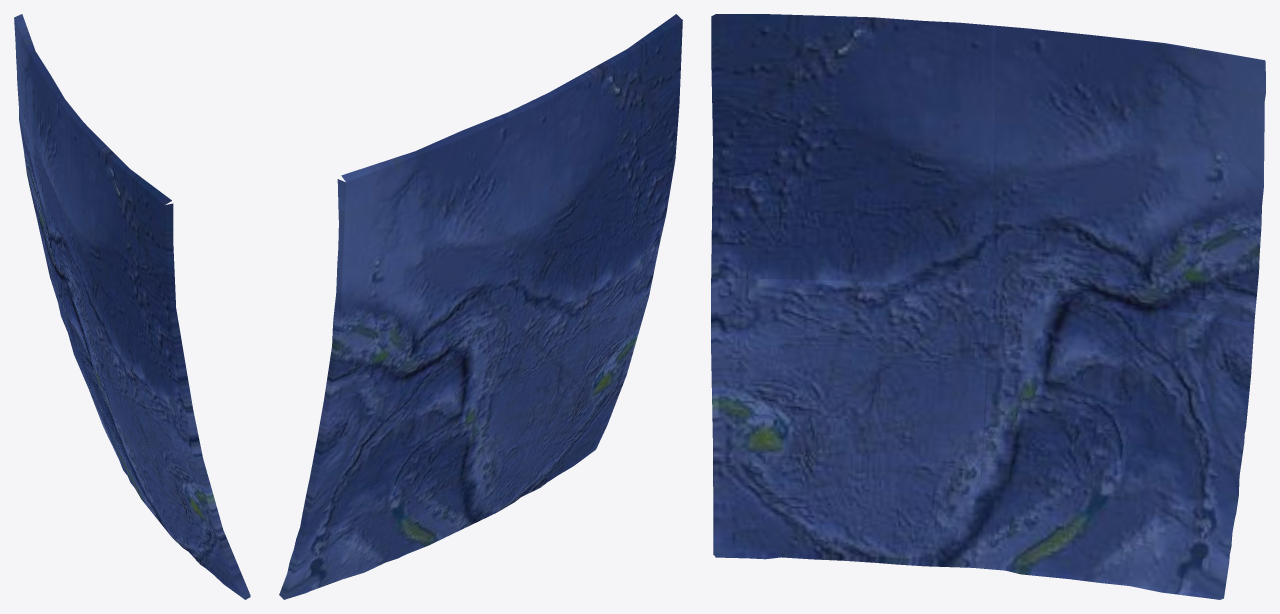
3 renders of one model, left to right at view 1: azimuth 30°, elevation 25°; view 2: azimuth 150°, elevation 25°; view 3: azimuth 270°, elevation 25°, orthographic. The views are drawn at different scales.
Bounding box in the file's own units: 973565 × 2456604 × 2469843.
Materials: 1 (1 with a texture image).
